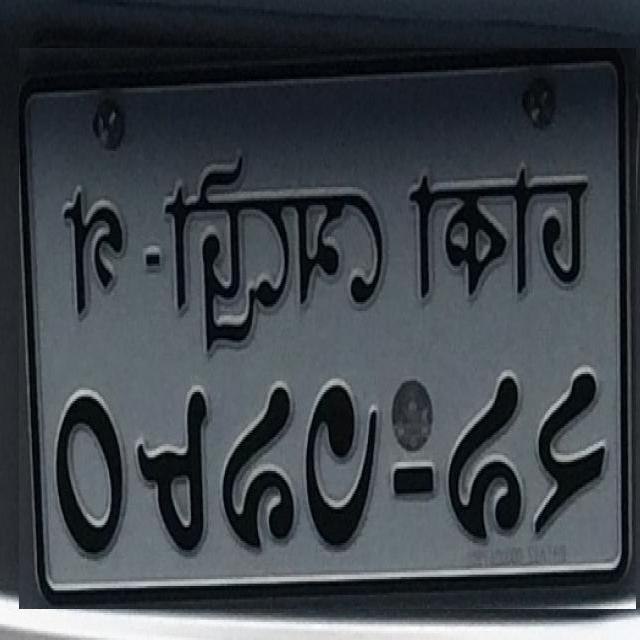numberplate: (19, 48, 636, 609)
